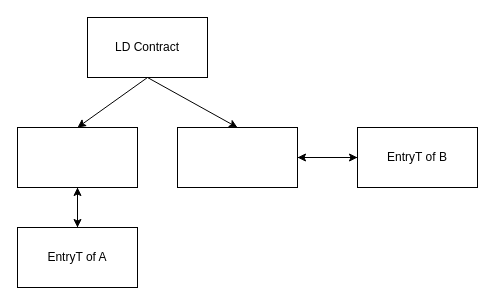
Some shapes in this 495 by 305 pixel diagram are drawn without their labels. Here are the shapes that lost their labels. From the top down, the centre of each, then its label:
pixel 77 157: LD Contract (A)
pixel 237 157: LD Contract (B)
